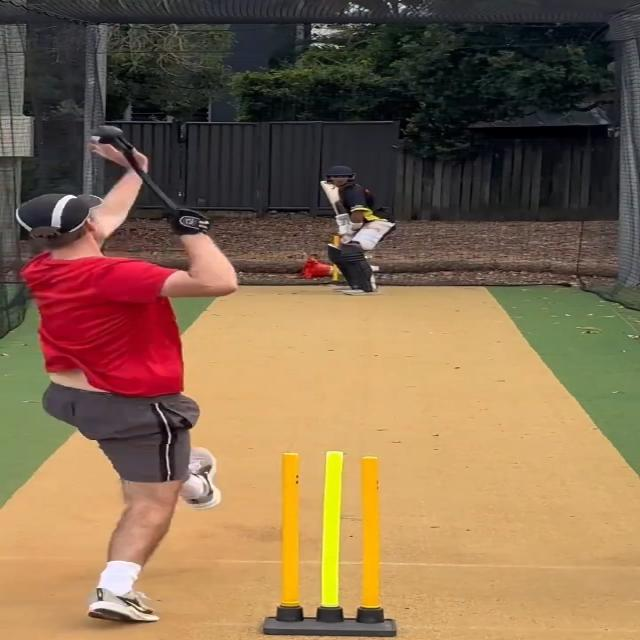stump: (263, 449, 390, 639)
